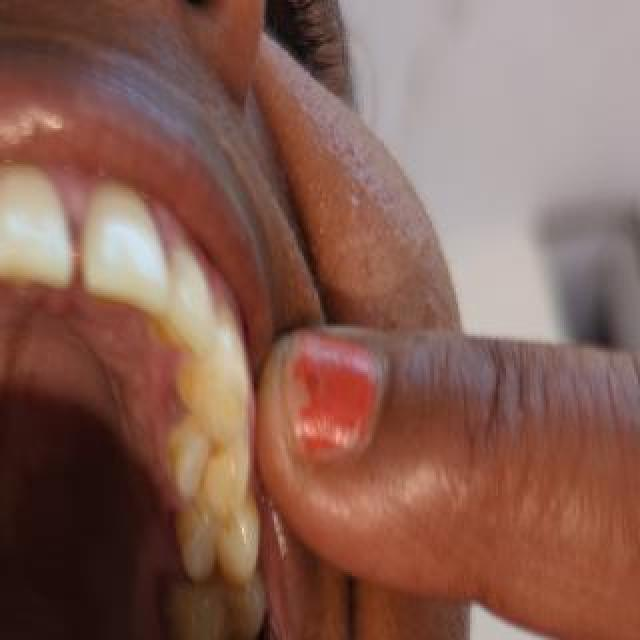spacing: (59, 206, 95, 300)
stains: (161, 386, 239, 508), (175, 519, 249, 607), (164, 568, 254, 640), (136, 279, 180, 363)
